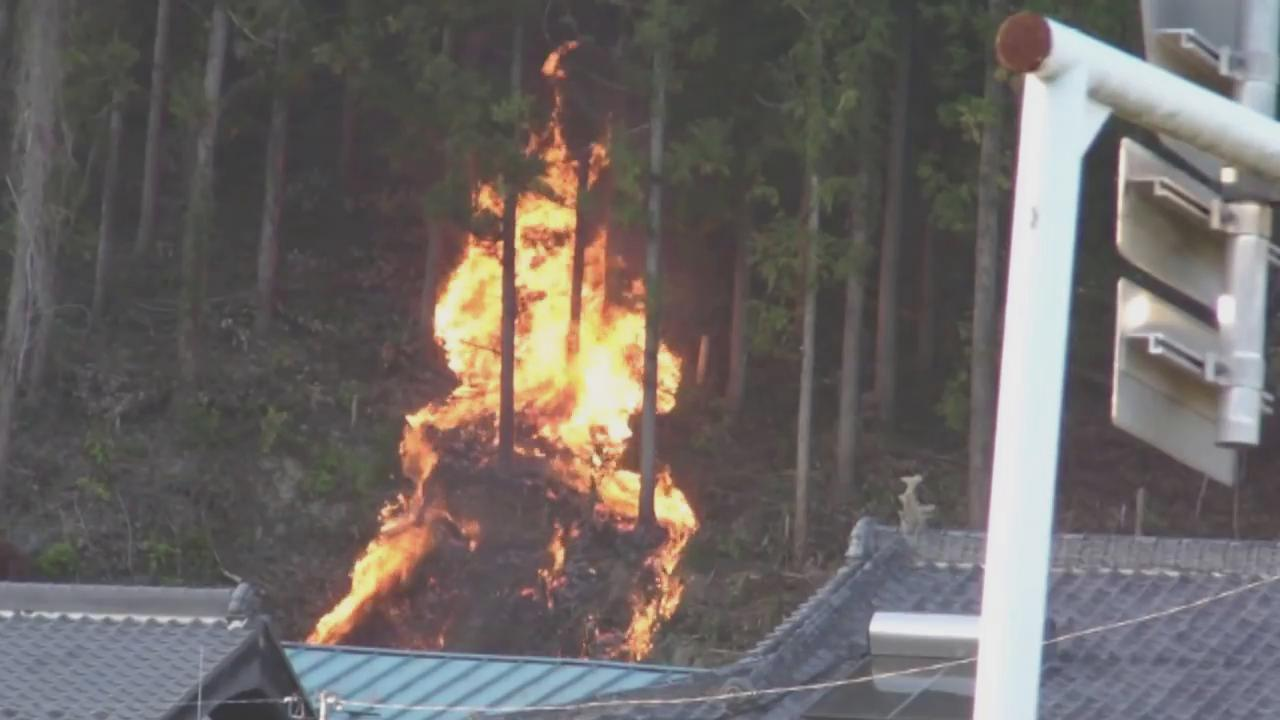Fire: (326, 34, 703, 659)
